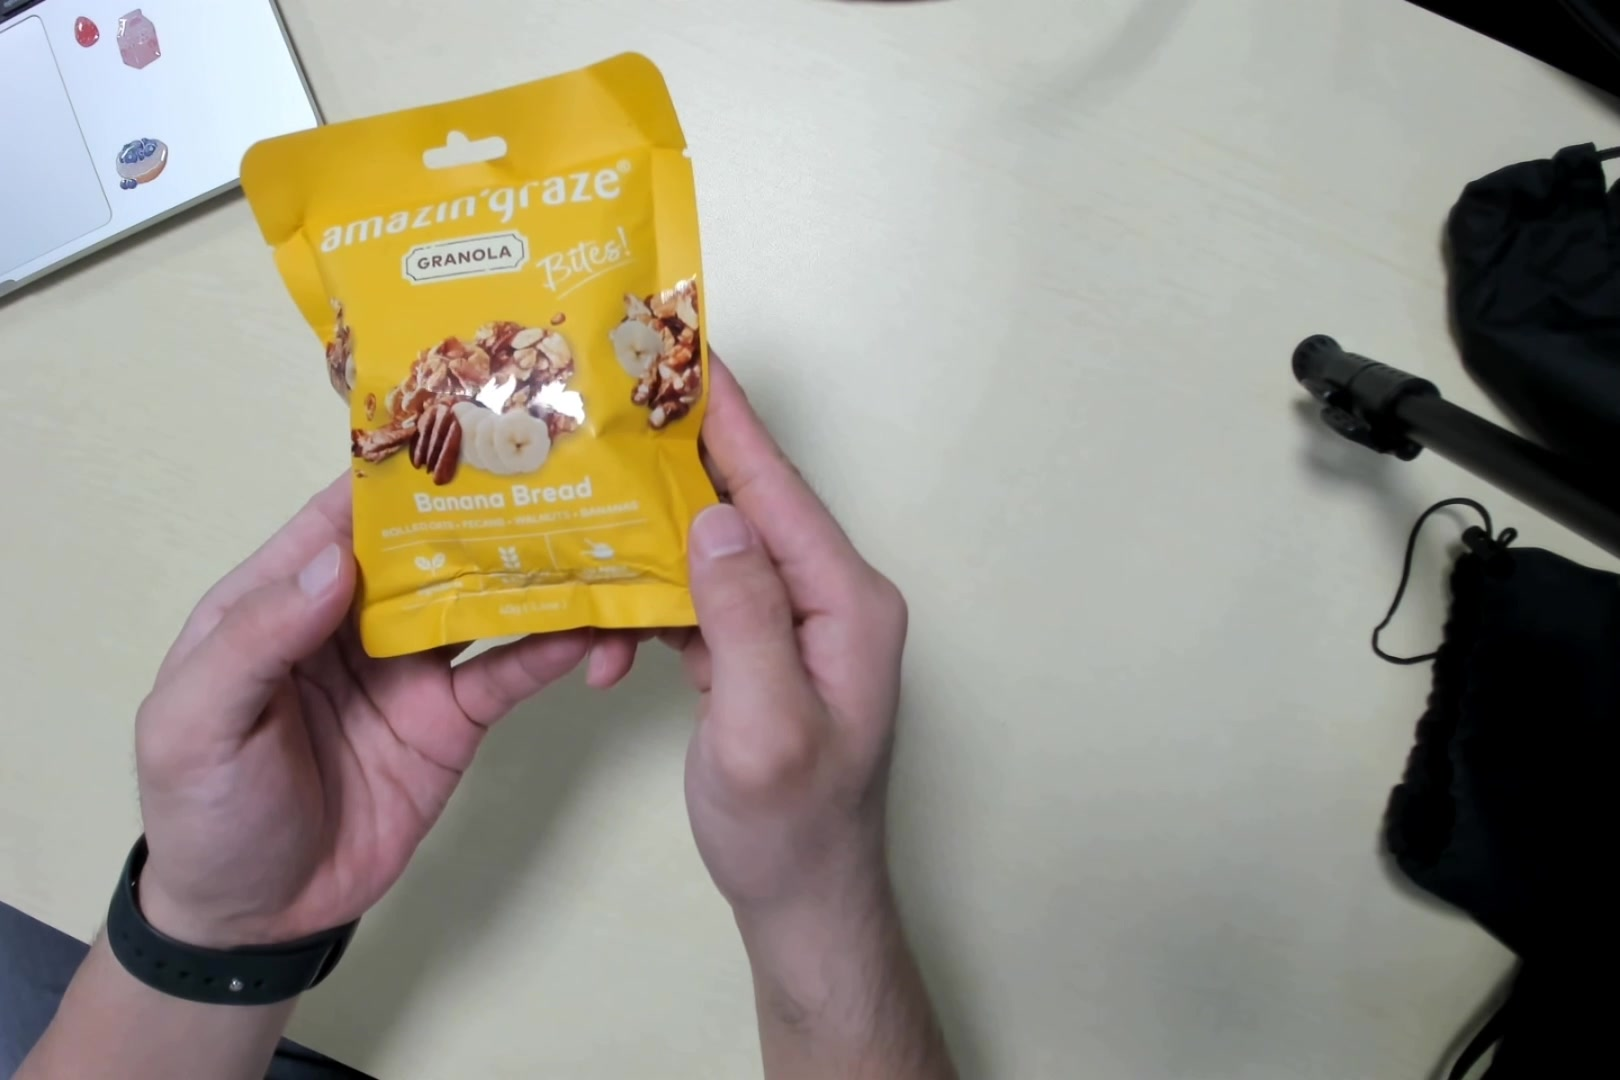BreakfastCereals_0-99g_NonHalal_NonHealthy: (288, 137, 712, 621)
